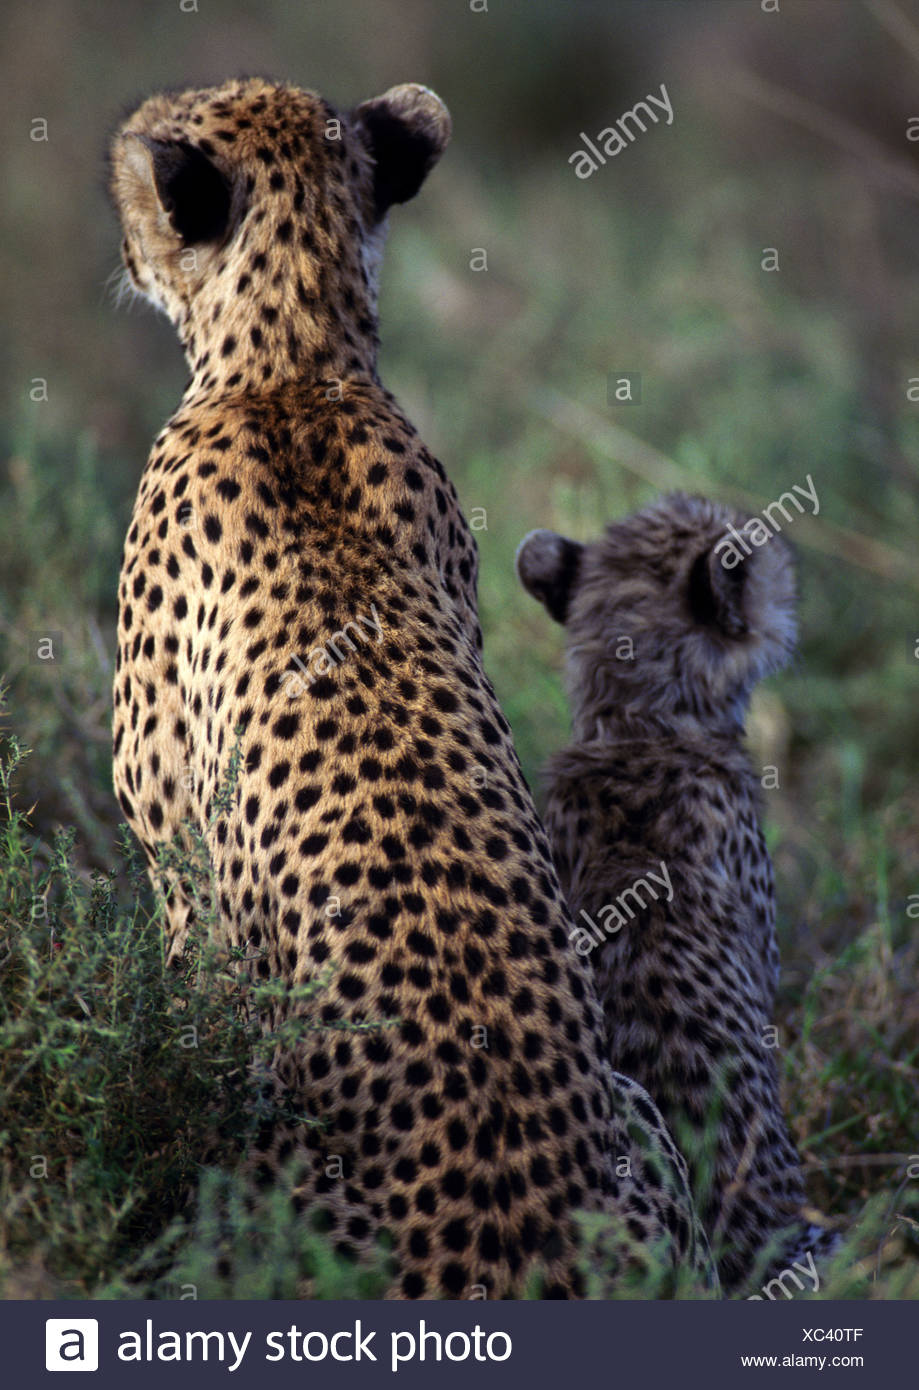Cheetah: (104, 71, 709, 1331), (502, 477, 830, 1275)
